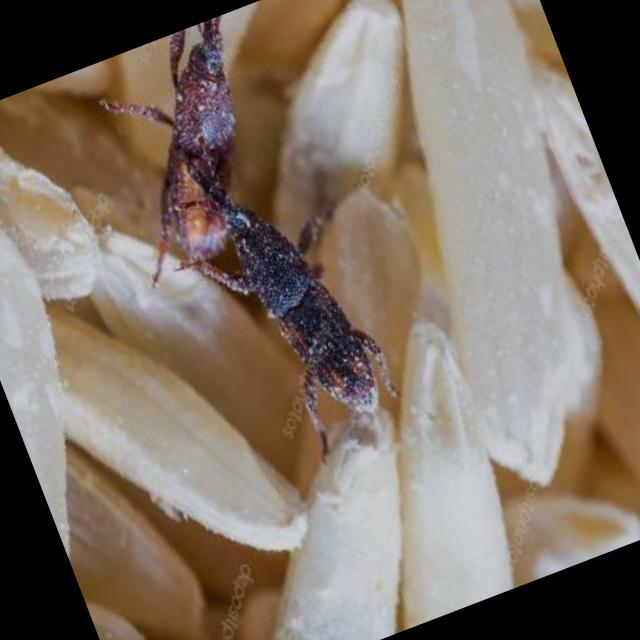rice-bug: (102, 17, 396, 459)
